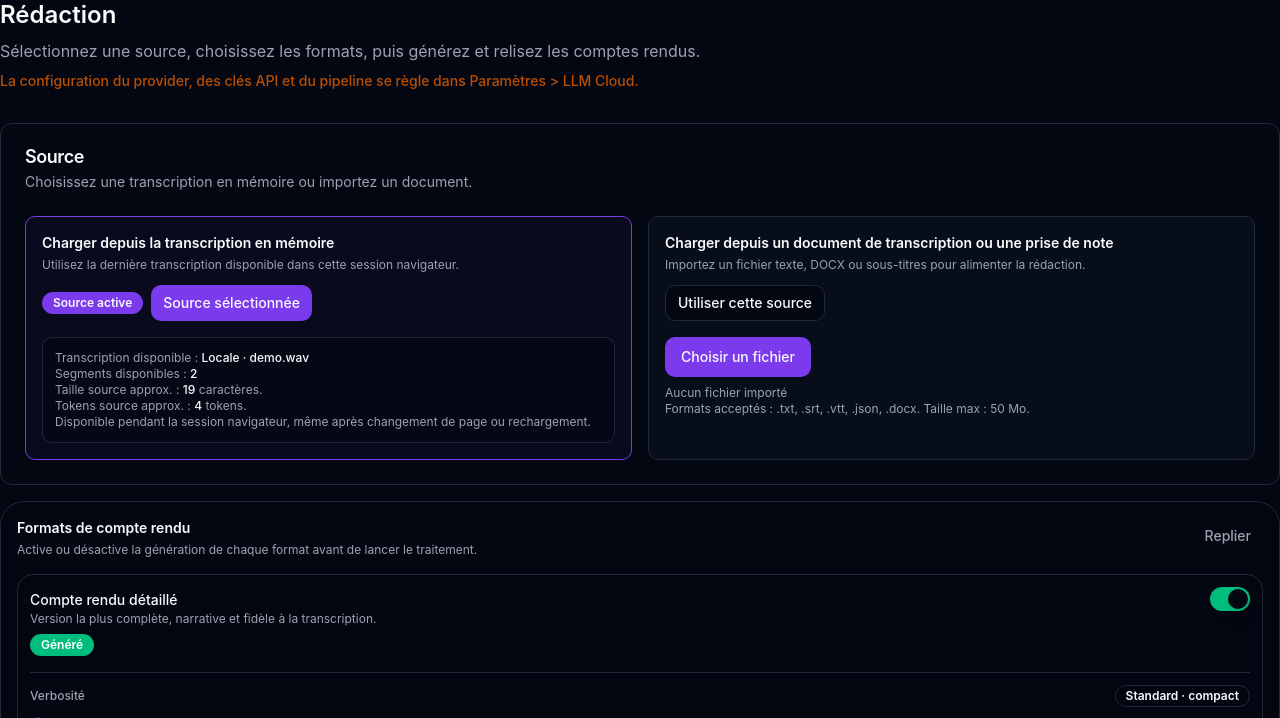
Test: LLMApiPage › selects the document source by clicking the document panel
This screenshot has width=1280, height=718.
Click the button named "charger depuis un document de transcription ou une prise de note" at [745, 303], box x1=665 y1=285 x2=825 y2=321
(page scrolled)
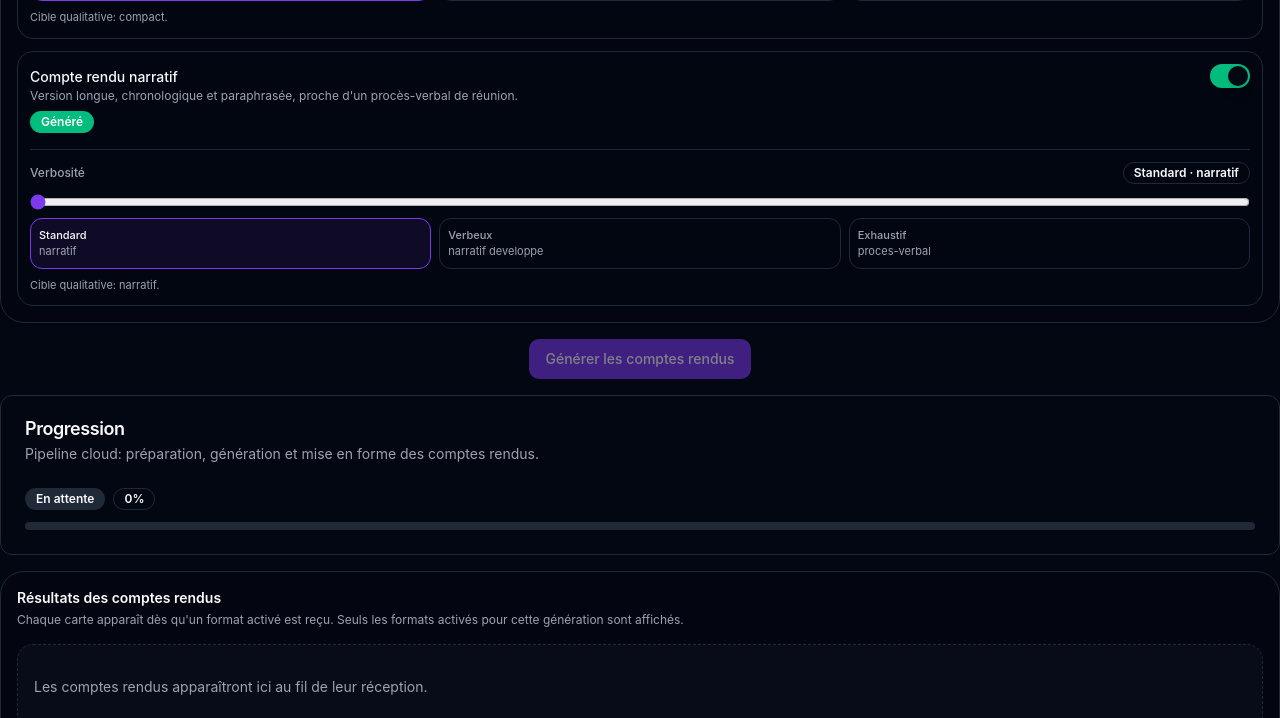
Expected: the text "Source active" is not shown
Result: the button "Générer les comptes rendus" is disabled at x1=530 y1=339 x2=750 y2=379
